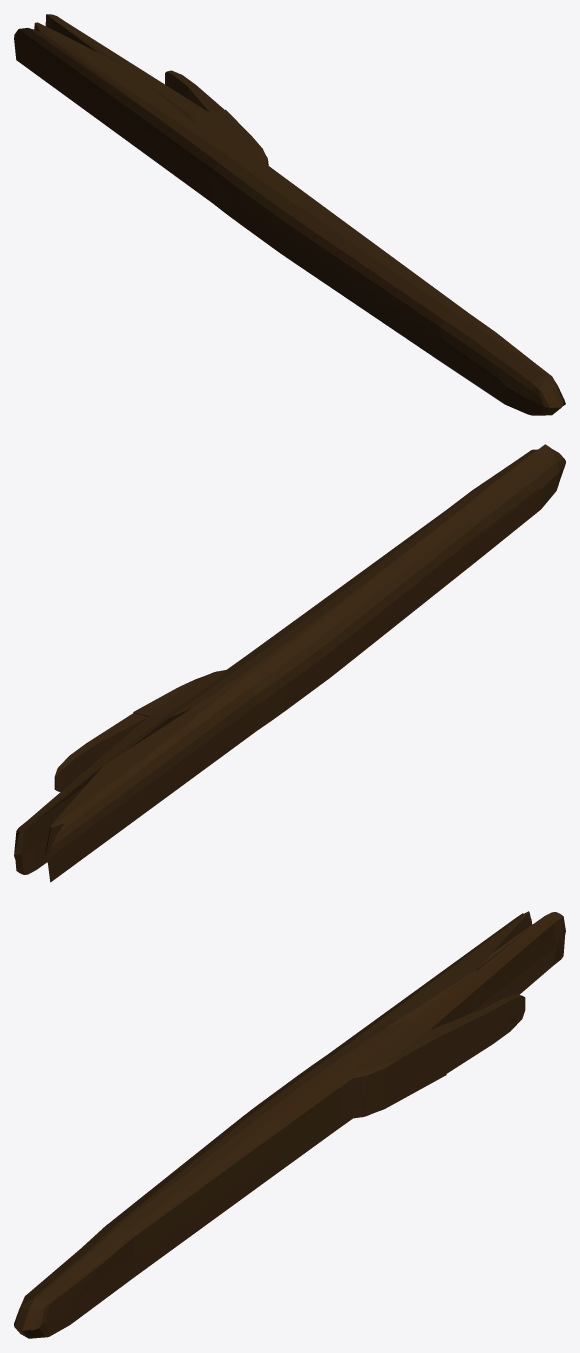
File: stick.fbx
3 views of the same model, one above another, from view 1: azimuth 30°, elevation 25°; view 2: azimuth 150°, elevation 25°; view 3: azimuth 330°, elevation 25° (orthographic). The views are drawn at different scales.
Parts seen in each view (by area): view 1: Cube; view 2: Cube; view 3: Cube.
Boxes of the visible parts, bbox=[...] form: Cube: bbox=[14, 14, 565, 415]; Cube: bbox=[14, 444, 565, 882]; Cube: bbox=[14, 911, 565, 1338].
Bounding box in the file's own units: 5.12 × 3.42 × 61.51.
